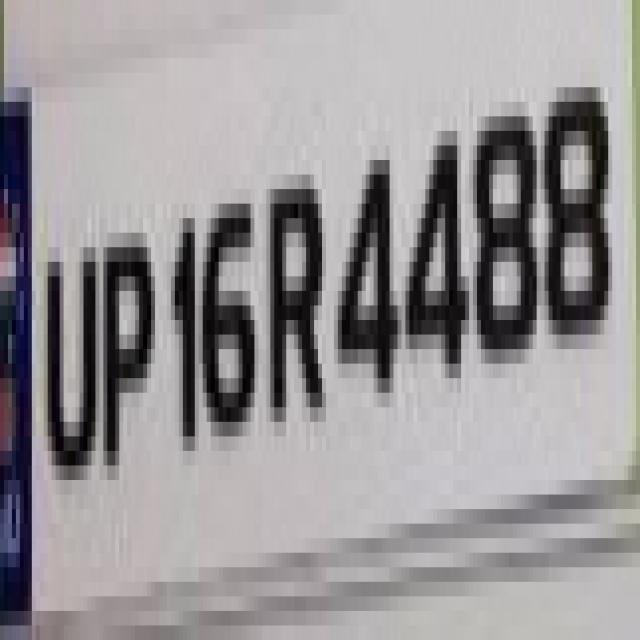1: (169, 197, 201, 473)
4: (402, 96, 472, 410), (338, 118, 400, 412)
6: (202, 150, 263, 450)
8: (544, 47, 612, 367), (474, 75, 545, 363)
P: (99, 216, 157, 496)
R: (268, 156, 328, 430)
U: (41, 223, 98, 480)
